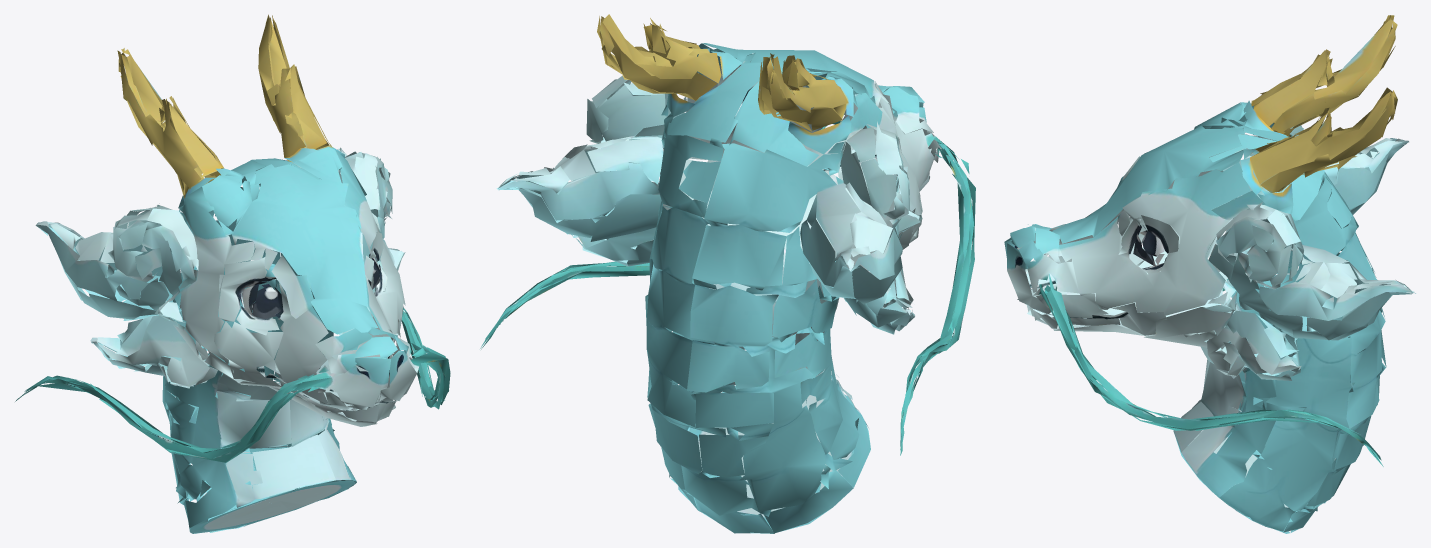
Rendered from seiran_dragon_head.glb.
3 renders of one model, left to right at view 1: azimuth 30°, elevation 25°; view 2: azimuth 150°, elevation 25°; view 3: azimuth 270°, elevation 25°, orthographic. The views are drawn at different scales.
Parts seen in each view (by area): view 1: dragon_head; view 2: dragon_head; view 3: dragon_head.
Boxes of the visible parts, x1,y1,x2,y2 form: dragon_head: (15, 14, 450, 533); dragon_head: (480, 14, 975, 533); dragon_head: (1004, 15, 1415, 533).
Size of the model in its own units: 0.5199 by 0.6295 by 0.5001.
Materials: 1 (1 with a texture image).
